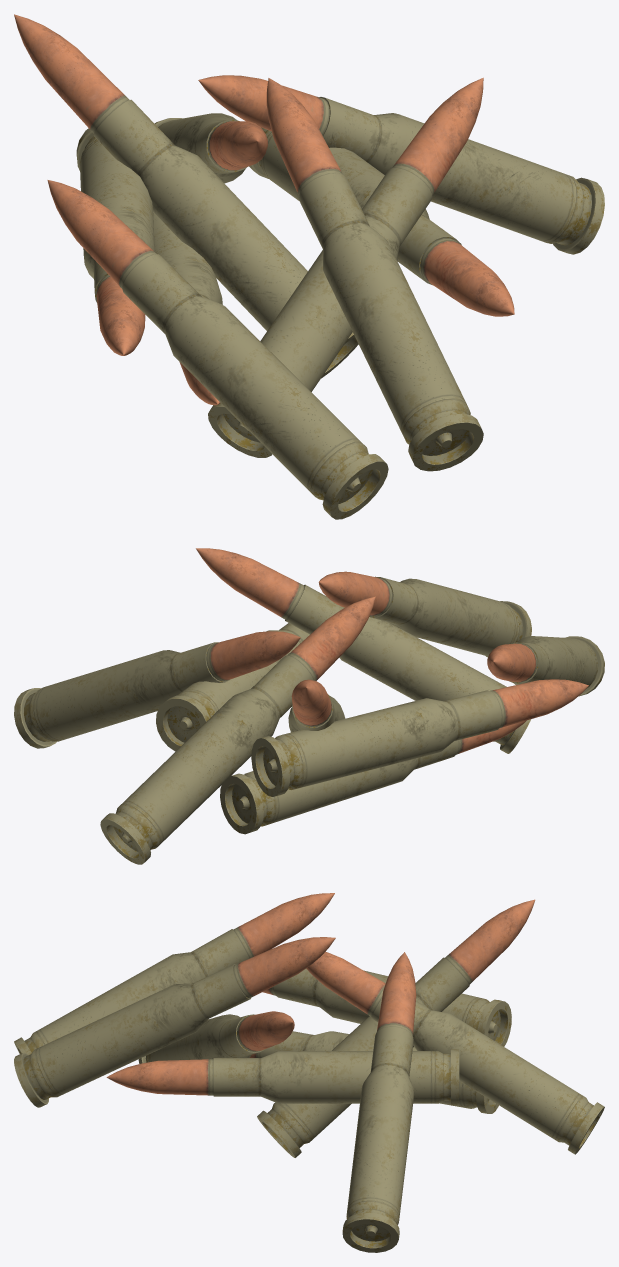
Rendered from Bullet Set 2(1).fbx.
3 renders of one model, top to bottom at view 1: azimuth 30°, elevation 25°; view 2: azimuth 150°, elevation 25°; view 3: azimuth 270°, elevation 25°, orthographic. The views are drawn at different scales.
Parts seen in each view (by area): view 1: Threebullets.003; view 2: Threebullets.003; view 3: Threebullets.003.
Part boxes in pixels (x1=…): Threebullets.003: x1=14, y1=14, x2=604, y2=519; Threebullets.003: x1=14, y1=548, x2=604, y2=864; Threebullets.003: x1=14, y1=893, x2=604, y2=1252.
Bounding box in the file's own units: 308 × 140 × 357.
